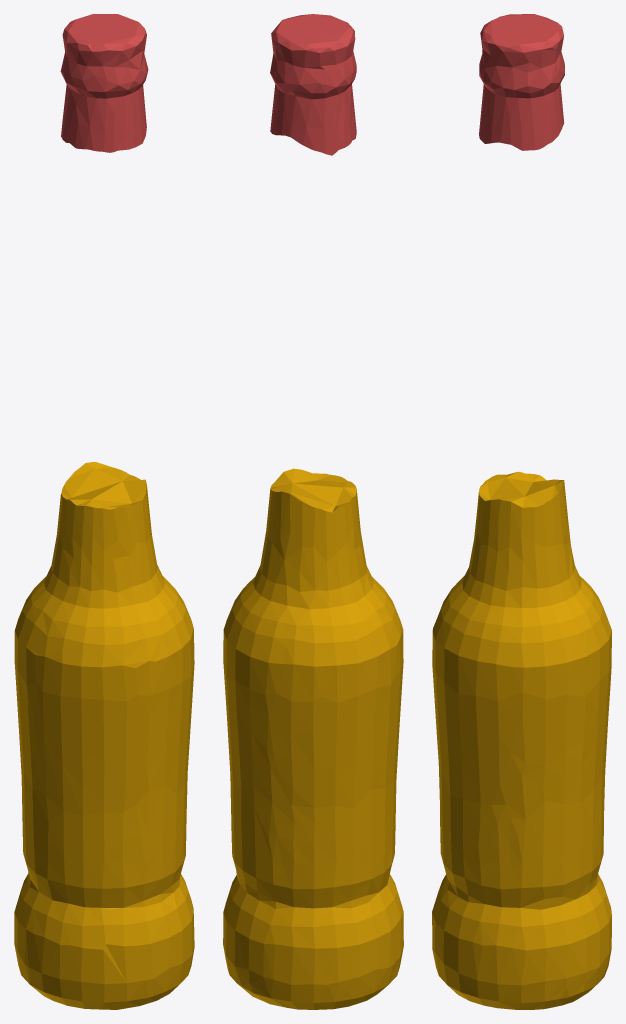
The model's file is fractured_44_2pcs_transformed.glb.
3 views of the same model, side by side, from view 1: azimuth 30°, elevation 25°; view 2: azimuth 150°, elevation 25°; view 3: azimuth 270°, elevation 25° (orthographic).
Visible parts, largest first — view 1: piece_0.obj, piece_1.obj; view 2: piece_0.obj, piece_1.obj; view 3: piece_0.obj, piece_1.obj.
Boxes of the visible parts, x1,y1,x2,y2 form: piece_0.obj: [14, 462, 194, 1009]; piece_1.obj: [60, 14, 148, 152]; piece_0.obj: [223, 468, 403, 1009]; piece_1.obj: [270, 14, 356, 155]; piece_0.obj: [432, 471, 611, 1009]; piece_1.obj: [479, 14, 564, 150].
Bounding box in the file's own units: 0.2746 × 1.6 × 0.2742.
